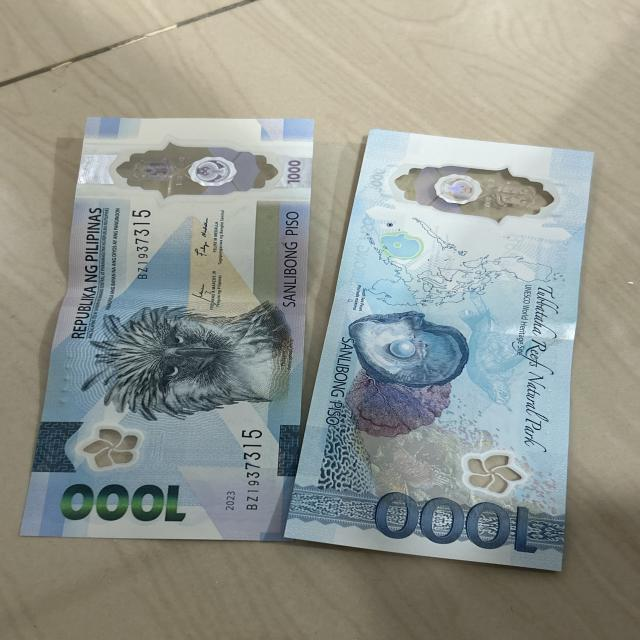clear_window: (381, 155, 553, 225), (109, 143, 288, 201)
sampaguita: (76, 422, 150, 477), (455, 452, 528, 492)
value: (366, 494, 542, 552)
